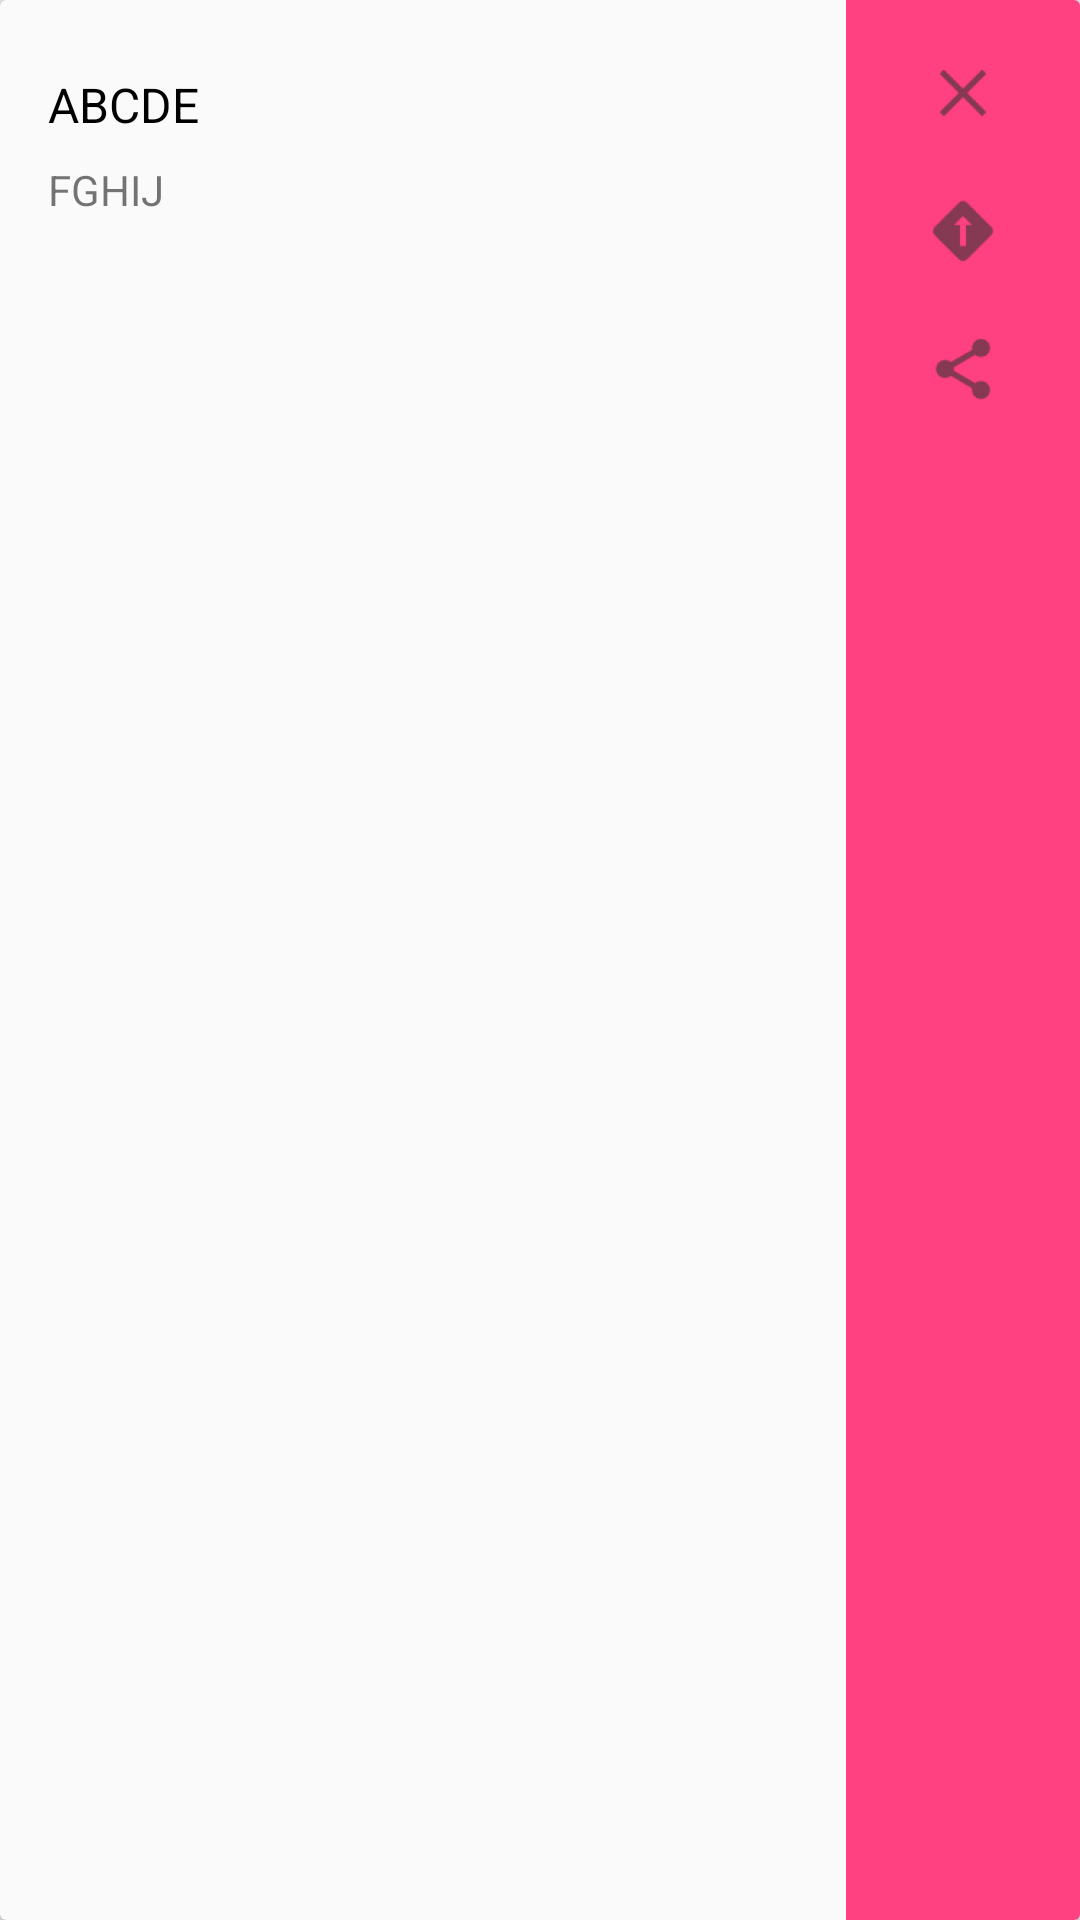

Where to tap for icons on this 1080px x 1920px app screen, as [x,y]:
delete card: [963,93]
share card: [963,369]
